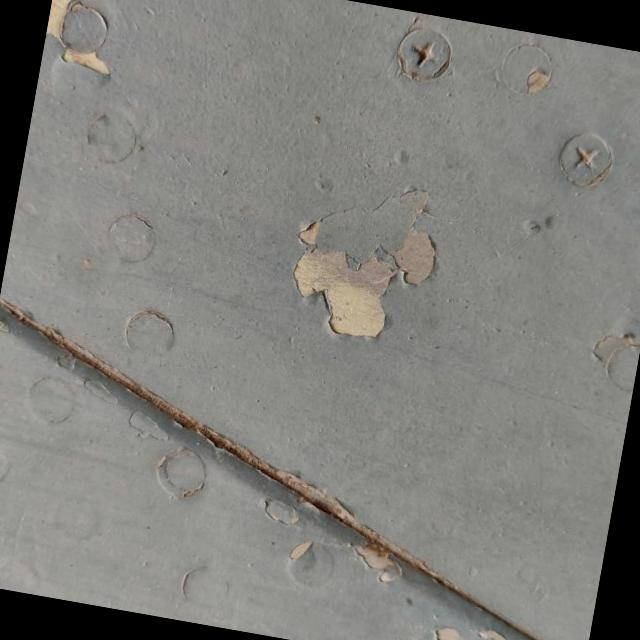paint-off: (183, 175, 370, 373), (0, 491, 97, 602)
